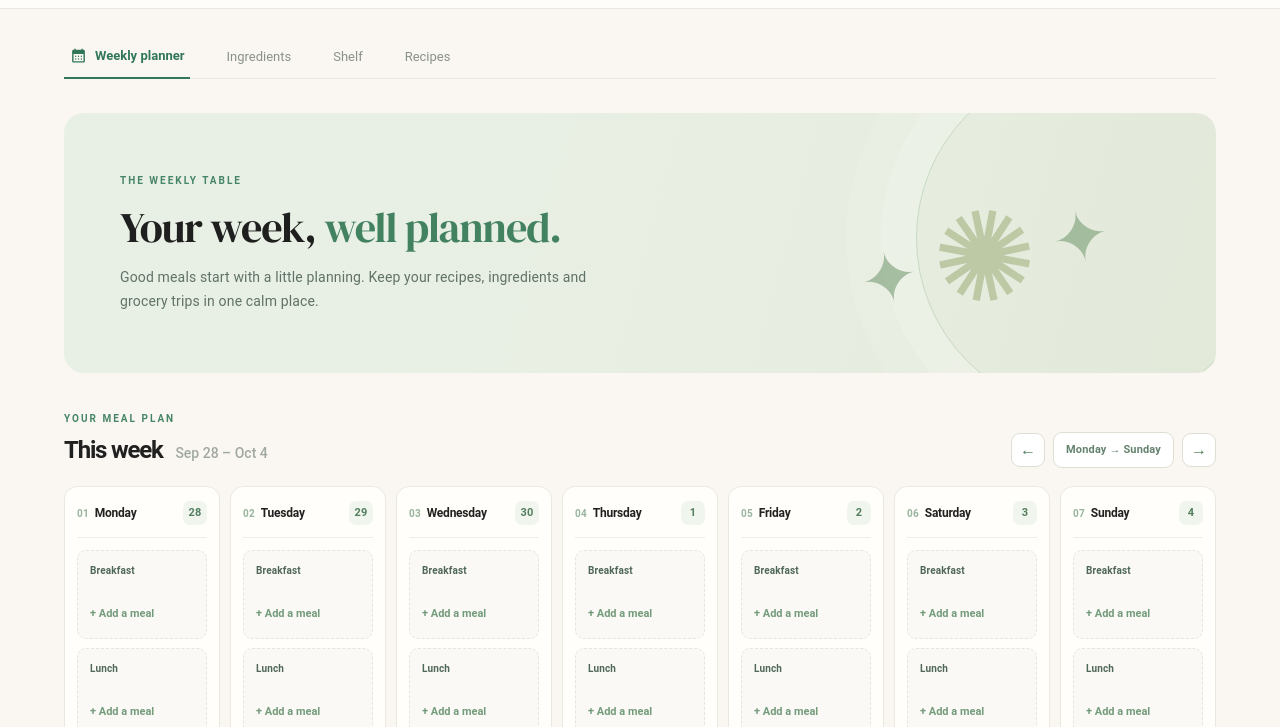
Scenario: weekly meal planner › shows saved recipes with servings, per-serving nutrition, ingredients and inspiration links
Click the button "Recipes".
click(428, 56)  # box [399, 34, 456, 78]
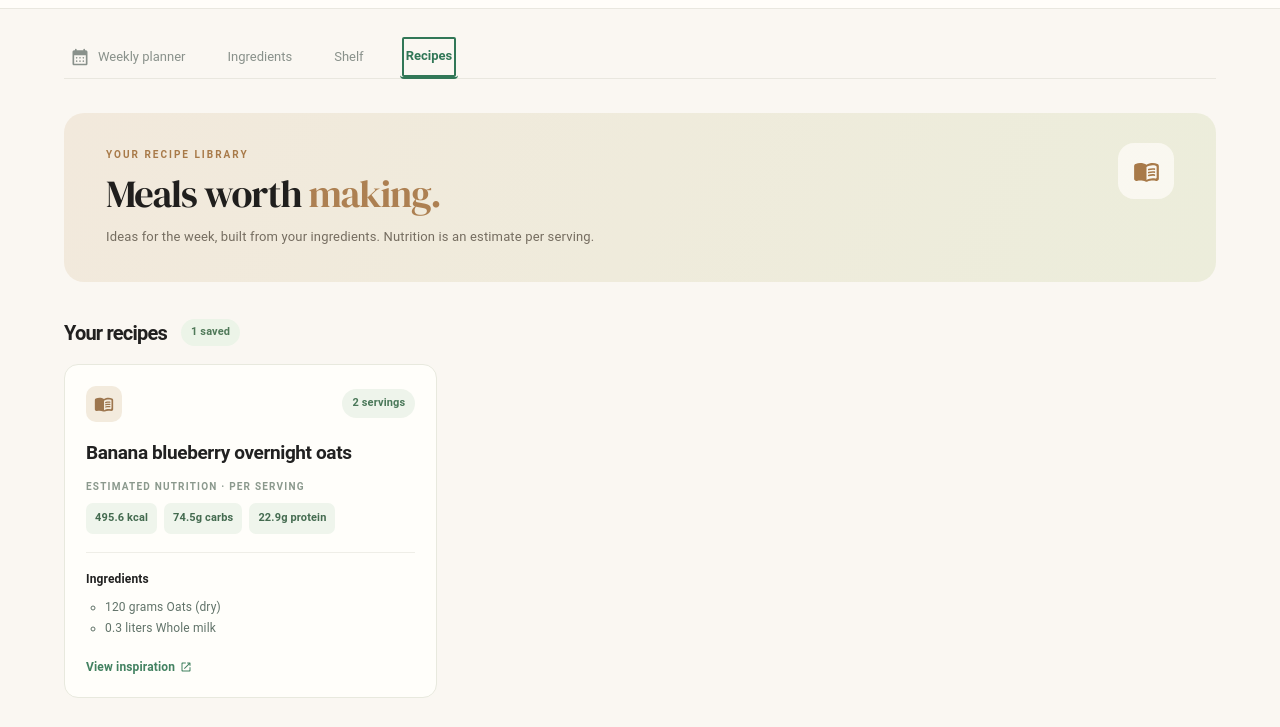
Check: the text "1 saved" is shown, box [181, 319, 240, 346]
Check: the text "2 servings" is shown, box [342, 389, 415, 418]
Check: the text "495.6 kcal" is shown, box [86, 503, 157, 534]
Click the button "Weekly planner".
click(128, 56)  # box [64, 34, 192, 78]
(page scrolled)
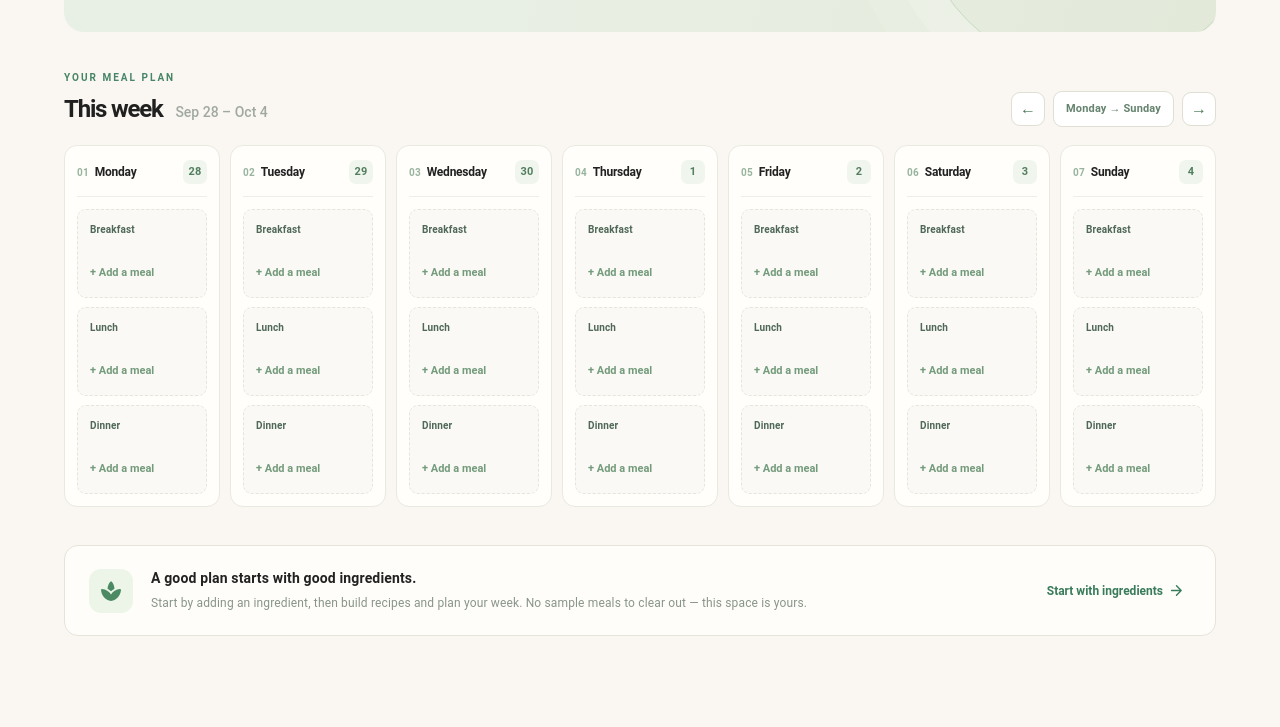
Check: the element named "weekly meal calendar" is shown, box [64, 145, 1216, 521]
